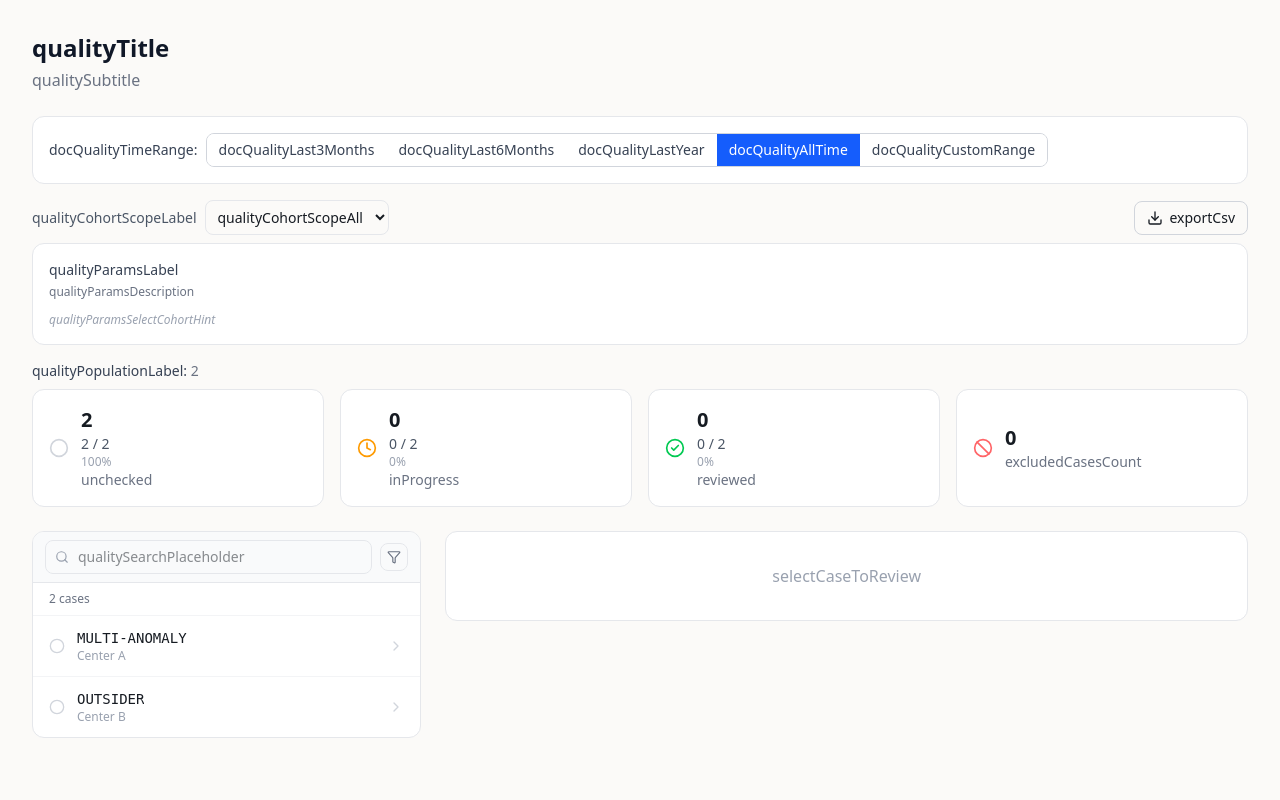
it: QualityPage — cohort scope restricts case list › (c) Selecting a cohort filtered to CENTER-A shows only MULTI-ANOMALY, hides OUTSIDER
The image size is (1280, 800).
# Select the 'Visus Only Cohort' which filters to CENTER-A
Select "Visus Only Cohort" in the dropdown at (296, 218), box [204,200,388,235]
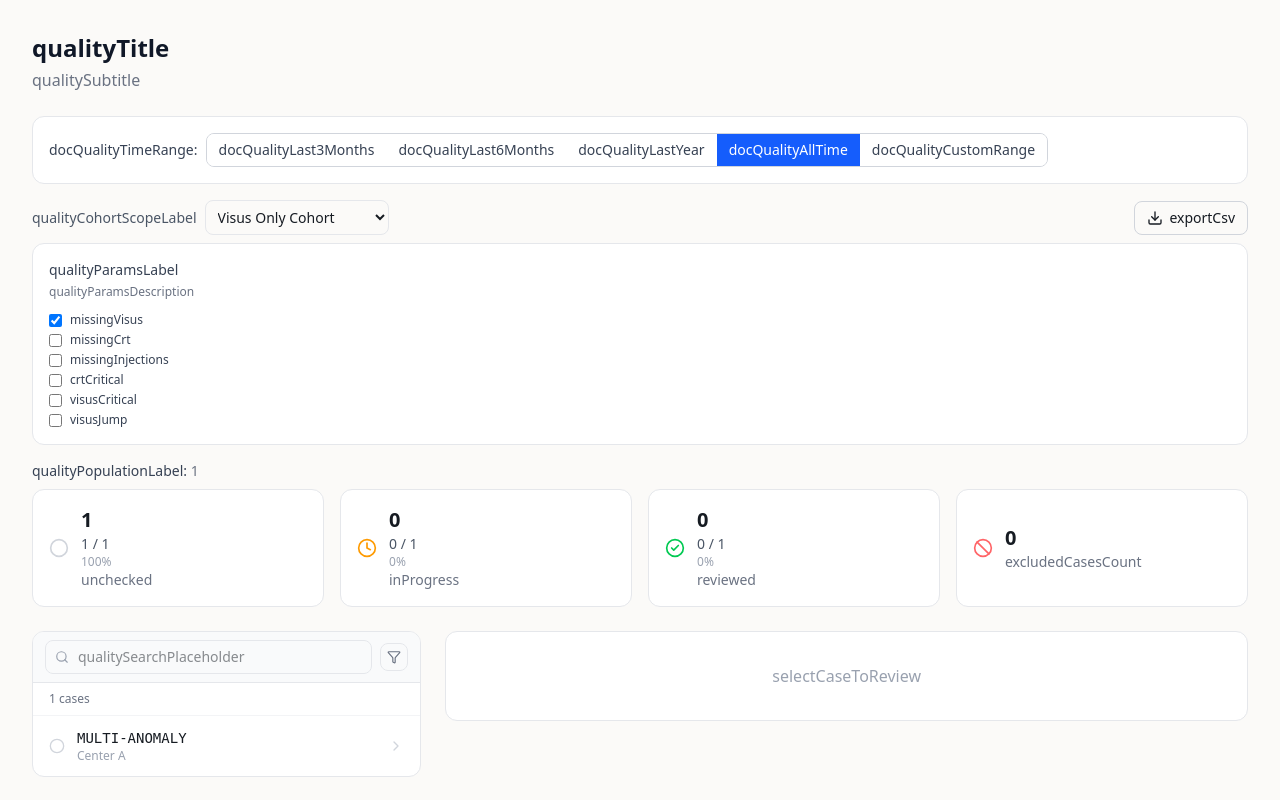
Expected: the text "MULTI-ANOMALY" is shown, [77,728,187,748]
Expected: the button "OUTSIDER" is gone
